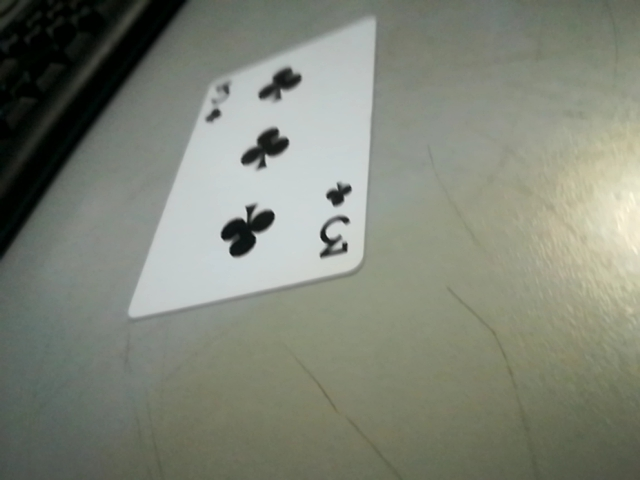mh 3: (311, 178, 368, 270)
